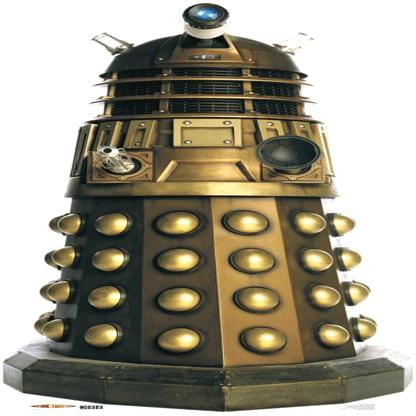dalek: (2, 0, 409, 414)
